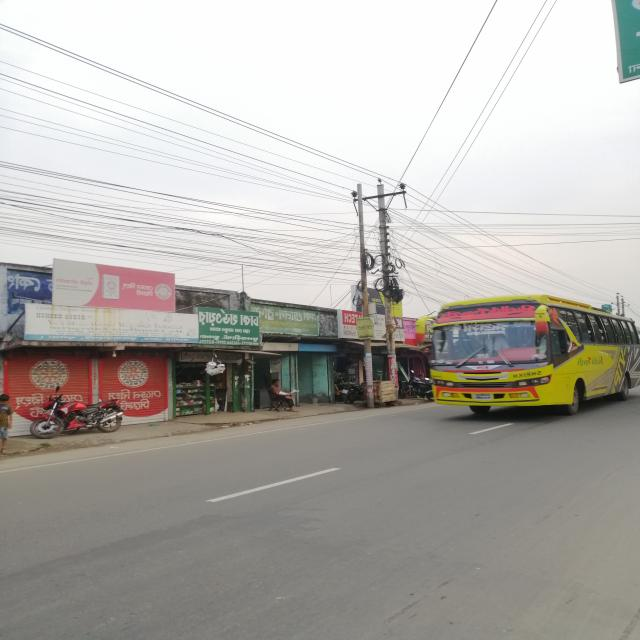Bus: (416, 292, 640, 422)
Motorbike: (24, 382, 133, 444)
